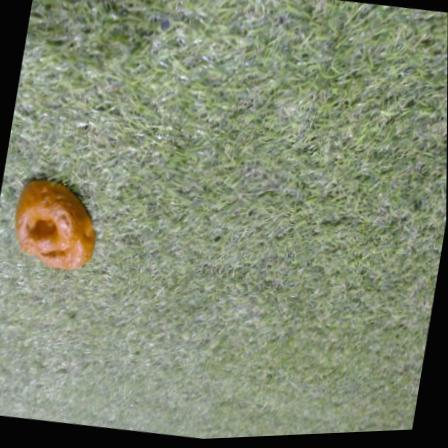dog-poop: (6, 173, 101, 279)
